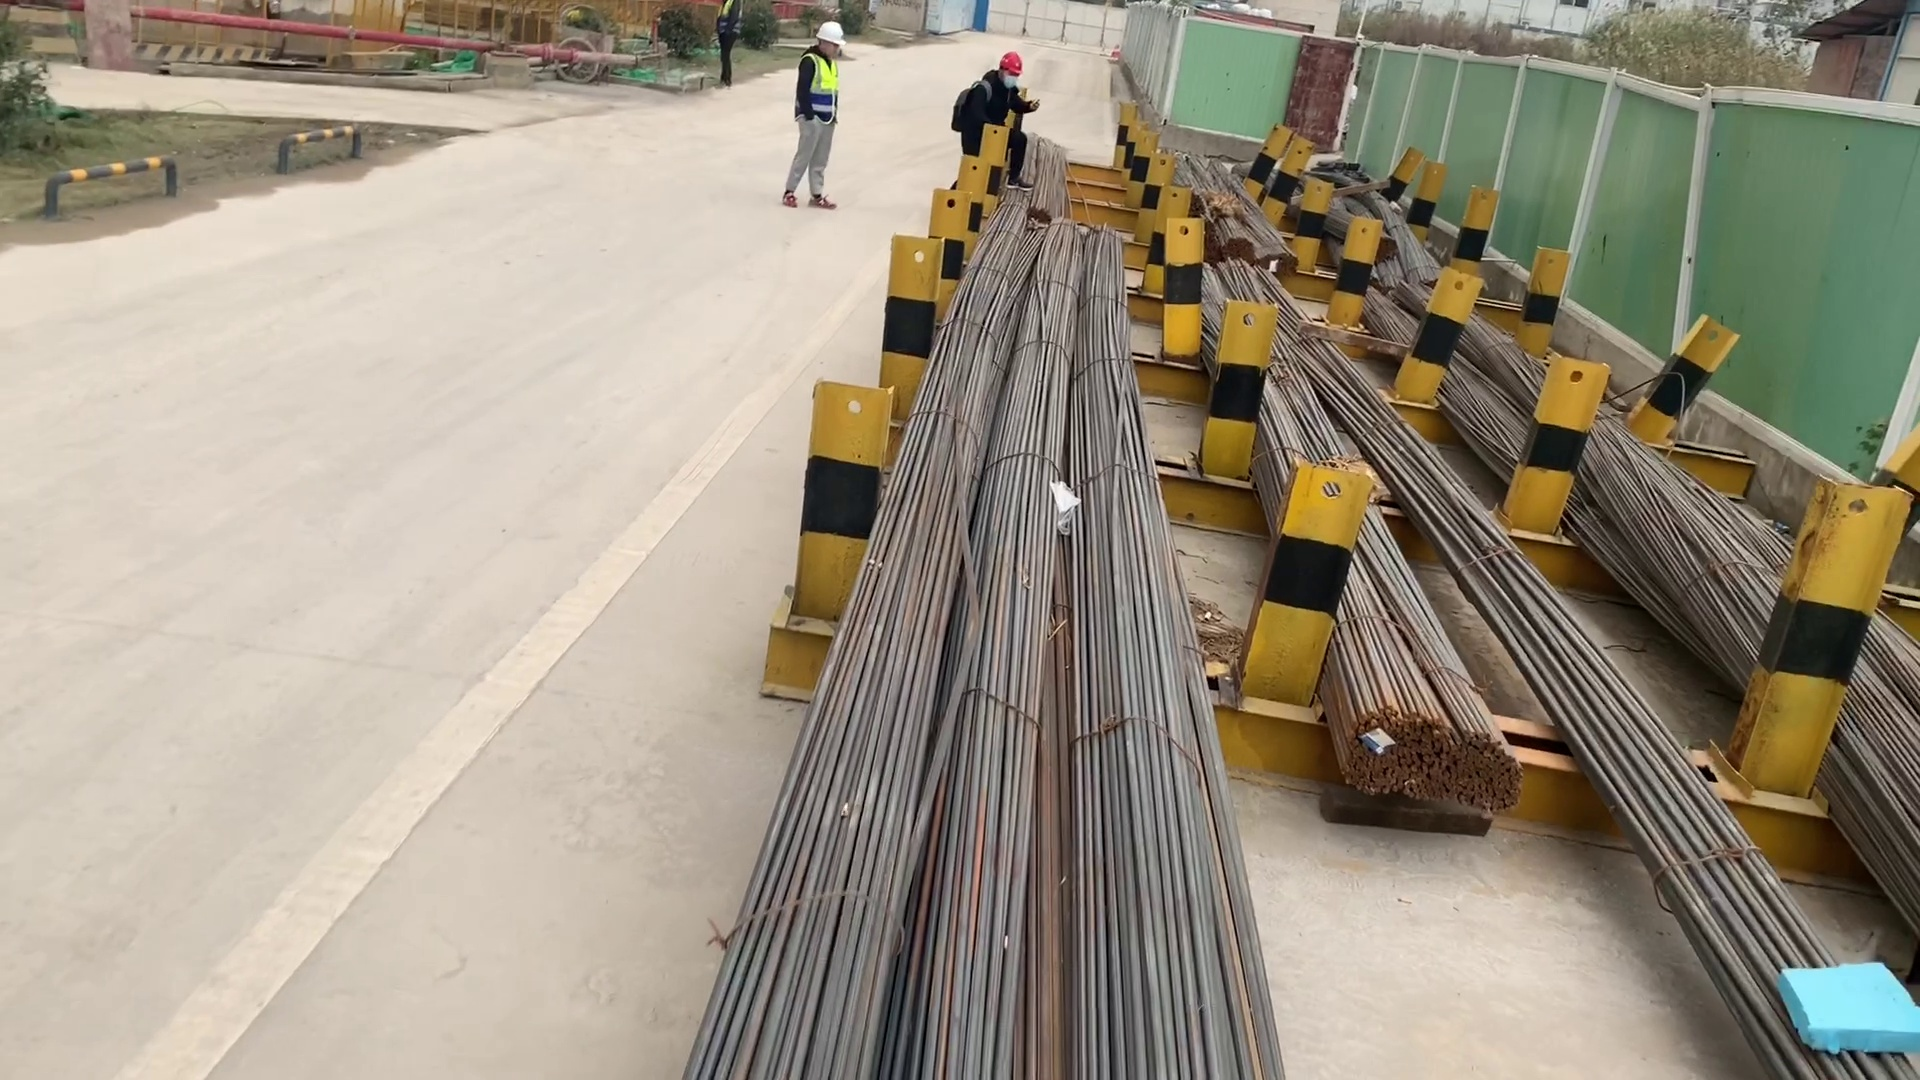rebar: (1327, 684, 1526, 822), (1258, 247, 1304, 273), (1216, 233, 1253, 261)
